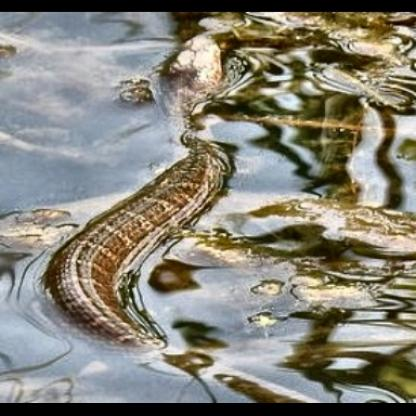Snake: (41, 24, 239, 391)
